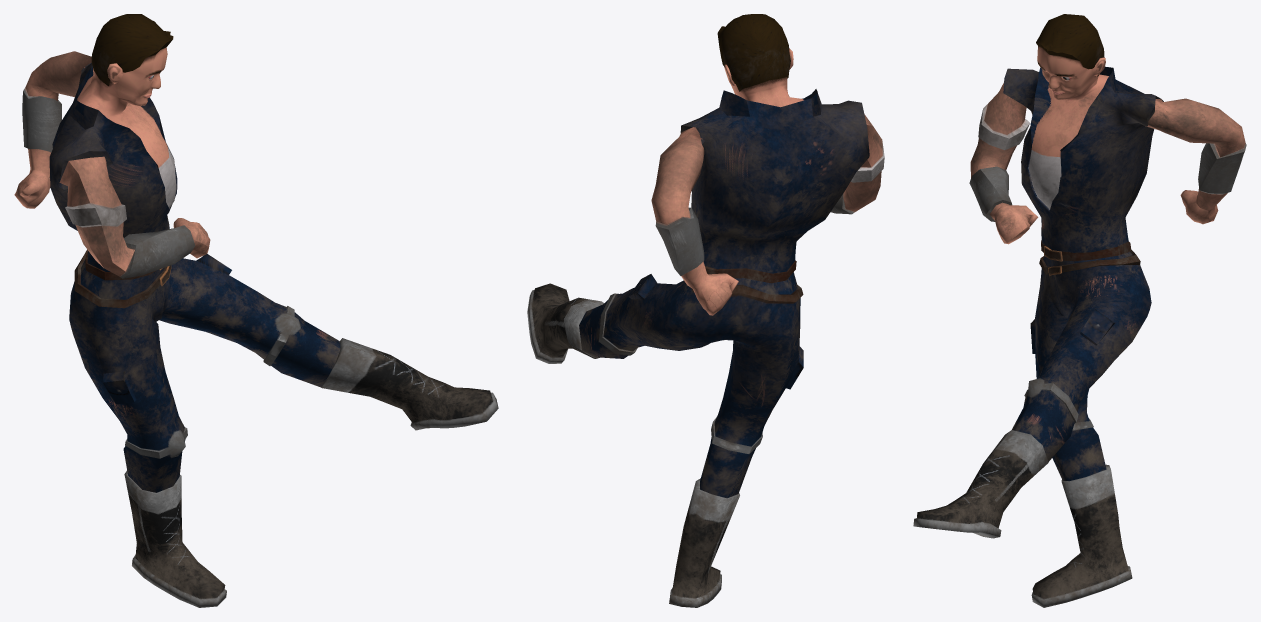
File: Anim_ataque_f2_jugador.0030.obj
3 renders of one model, left to right at view 1: azimuth 30°, elevation 25°; view 2: azimuth 150°, elevation 25°; view 3: azimuth 270°, elevation 25°, orthographic. The views are drawn at different scales.
Parts seen in each view (by area): view 1: polySurface1; view 2: polySurface1; view 3: polySurface1.
Boxes of the visible parts, bbox=[...] form: polySurface1: bbox=[14, 14, 498, 607]; polySurface1: bbox=[527, 14, 884, 607]; polySurface1: bbox=[913, 14, 1246, 607].
Size of the model in its own units: 6.58 by 9.49 by 5.18.
